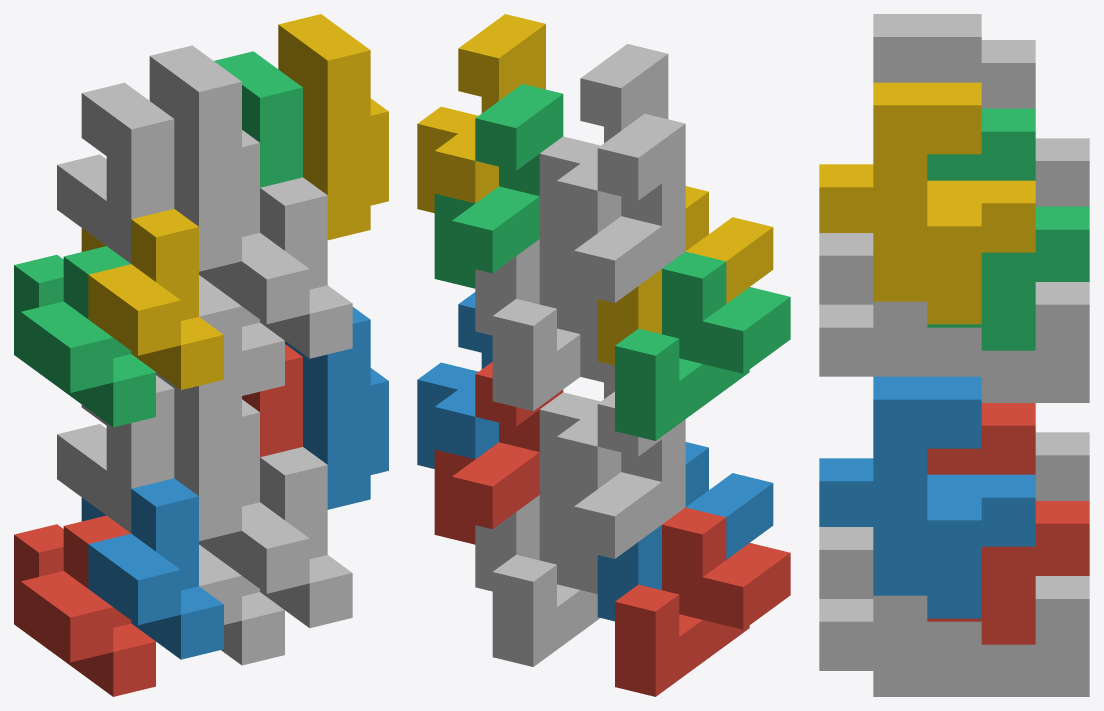
File: tiling.obj
3 views of the same model, side by side, from view 1: azimuth 30°, elevation 25°; view 2: azimuth 150°, elevation 25°; view 3: azimuth 270°, elevation 25° (orthographic). The views are drawn at different scales.
Parts seen in each view (by area): view 1: copy_2_domain_8, copy_2_domain_4, copy_1_domain_2, copy_1_domain_4, copy_1_domain_3, copy_1_domain_1, copy_1_domain_8, copy_1_domain_6, copy_2_domain_3, copy_2_domain_6, copy_2_domain_2, copy_2_domain_1 (+4 smaller); view 2: copy_1_domain_1, copy_1_domain_3, copy_2_domain_3, copy_2_domain_7, copy_2_domain_1, copy_2_domain_4, copy_2_domain_8, copy_2_domain_5, copy_1_domain_5, copy_1_domain_7, copy_1_domain_2, copy_1_domain_4 (+4 smaller); view 3: copy_2_domain_6, copy_2_domain_8, copy_1_domain_6, copy_1_domain_8, copy_2_domain_7, copy_2_domain_5, copy_1_domain_5, copy_1_domain_7, copy_2_domain_3, copy_2_domain_4, copy_1_domain_2, copy_1_domain_4 (+1 smaller).
Part boxes in pixels (x1=…): copy_2_domain_8: x1=278, y1=14, x2=388, y2=240; copy_2_domain_4: x1=149, y1=45, x2=259, y2=271; copy_1_domain_2: x1=81, y1=478, x2=223, y2=659; copy_1_domain_4: x1=81, y1=209, x2=223, y2=389; copy_1_domain_3: x1=14, y1=246, x2=155, y2=427; copy_1_domain_1: x1=14, y1=515, x2=155, y2=696; copy_1_domain_8: x1=217, y1=177, x2=352, y2=358; copy_1_domain_6: x1=217, y1=447, x2=352, y2=628; copy_2_domain_3: x1=57, y1=82, x2=174, y2=263; copy_2_domain_6: x1=285, y1=307, x2=388, y2=509; copy_2_domain_2: x1=156, y1=351, x2=259, y2=541; copy_2_domain_1: x1=57, y1=375, x2=174, y2=532; copy_1_domain_1: x1=615, y1=507, x2=790, y2=696; copy_1_domain_3: x1=615, y1=251, x2=790, y2=440; copy_2_domain_3: x1=557, y1=113, x2=685, y2=318; copy_2_domain_7: x1=434, y1=84, x2=563, y2=288; copy_2_domain_1: x1=557, y1=391, x2=685, y2=574; copy_2_domain_4: x1=539, y1=44, x2=668, y2=242; copy_2_domain_8: x1=417, y1=14, x2=545, y2=213; copy_2_domain_5: x1=434, y1=362, x2=563, y2=544; copy_1_domain_5: x1=492, y1=495, x2=599, y2=666; copy_1_domain_7: x1=492, y1=239, x2=597, y2=411; copy_1_domain_2: x1=597, y1=442, x2=773, y2=621; copy_1_domain_4: x1=597, y1=186, x2=773, y2=365; copy_2_domain_6: x1=873, y1=376, x2=1035, y2=618; copy_2_domain_8: x1=873, y1=82, x2=1035, y2=324; copy_1_domain_6: x1=819, y1=527, x2=1035, y2=670; copy_1_domain_8: x1=819, y1=233, x2=1035, y2=376; copy_2_domain_7: x1=927, y1=108, x2=1089, y2=350; copy_2_domain_5: x1=927, y1=403, x2=1089, y2=644; copy_1_domain_5: x1=873, y1=576, x2=1089, y2=696; copy_1_domain_7: x1=981, y1=282, x2=1089, y2=402; copy_2_domain_3: x1=981, y1=40, x2=1089, y2=206; copy_2_domain_4: x1=873, y1=14, x2=981, y2=82; copy_1_domain_2: x1=819, y1=458, x2=873, y2=526; copy_1_domain_4: x1=819, y1=164, x2=873, y2=232.
Bounding box in the file's own units: 8 × 13 × 5.
